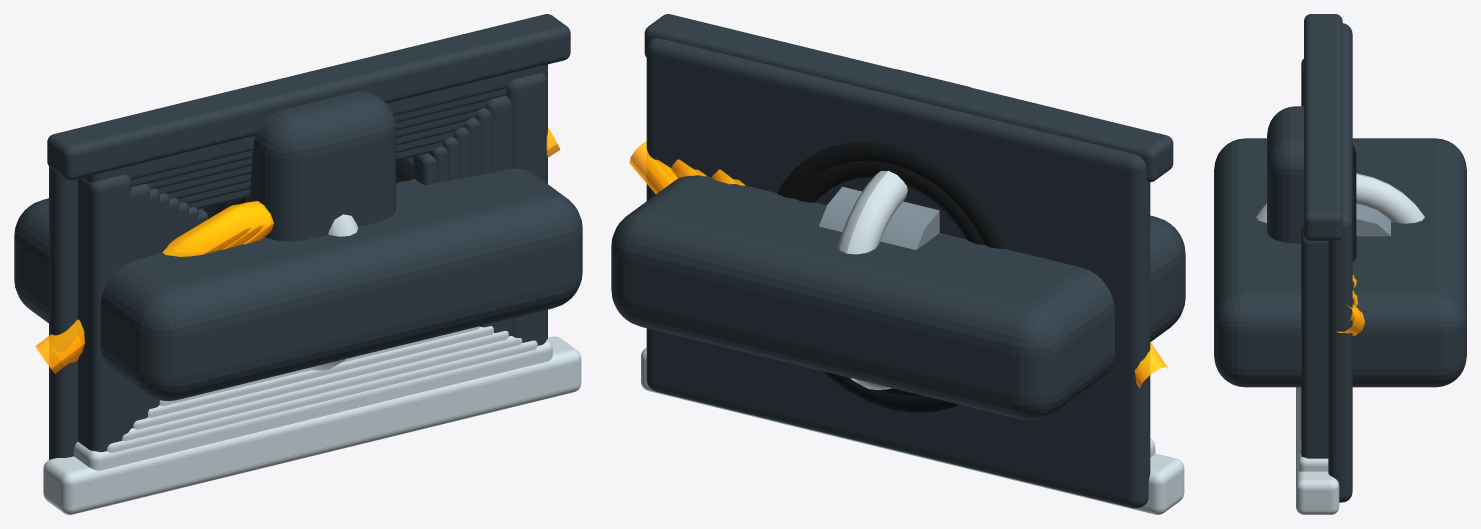
Rendered from body_02.glb.
The picture shows the model from 3 angles, left to right: view 1: azimuth 30°, elevation 25°; view 2: azimuth 150°, elevation 25°; view 3: azimuth 270°, elevation 25°; orthographic projection. The views are drawn at different scales.
Parts seen in each view (by area): view 1: asset_mesh__body_0107__reference_body, asset_mesh__body_0125__lower_flange, asset_mesh__body_0125__upper_flange, asset_mesh__body_0125__transmission_tunnel_relief, asset_mesh__body_0125__left_reinforcement, asset_mesh__body_0105__upper_flange, asset_mesh__body_0125__stamped_sheet, asset_mesh__body_0125__right_reinforcement, asset_mesh__body_0105__lower_flange, asset_mesh__body_0143__fluid_path, asset_mesh__body_0104__upper_flange, asset_mesh__body_0112__upper_flange (+18 smaller); view 2: asset_mesh__body_0125__stamped_sheet, asset_mesh__body_0107__reference_body, asset_mesh__body_0125__lower_flange, asset_mesh__body_0151__service_element, asset_mesh__body_0120__functional_ring, asset_mesh__body_0113__service_element, asset_mesh__body_0120__rotor, asset_mesh__body_0125__upper_flange, asset_mesh__body_0143__fluid_path; view 3: asset_mesh__body_0107__reference_body, asset_mesh__body_0125__lower_flange, asset_mesh__body_0125__stamped_sheet, asset_mesh__body_0125__right_reinforcement, asset_mesh__body_0125__transmission_tunnel_relief, asset_mesh__body_0120__functional_ring, asset_mesh__body_0125__upper_flange, asset_mesh__body_0120__rotor, asset_mesh__body_0105__upper_flange, asset_mesh__body_0151__service_element, asset_mesh__body_0143__fluid_path.
Part boxes in pixels (x1=…): asset_mesh__body_0107__reference_body: x1=14, y1=168, x2=582, y2=401; asset_mesh__body_0125__lower_flange: x1=47, y1=14, x2=570, y2=180; asset_mesh__body_0125__upper_flange: x1=43, y1=336, x2=581, y2=514; asset_mesh__body_0125__transmission_tunnel_relief: x1=246, y1=91, x2=395, y2=241; asset_mesh__body_0125__left_reinforcement: x1=78, y1=174, x2=131, y2=452; asset_mesh__body_0105__upper_flange: x1=74, y1=340, x2=552, y2=470; asset_mesh__body_0125__stamped_sheet: x1=49, y1=64, x2=547, y2=459; asset_mesh__body_0125__right_reinforcement: x1=506, y1=72, x2=546, y2=345; asset_mesh__body_0105__lower_flange: x1=84, y1=65, x2=542, y2=182; asset_mesh__body_0143__fluid_path: x1=35, y1=127, x2=560, y2=373; asset_mesh__body_0104__upper_flange: x1=107, y1=340, x2=537, y2=452; asset_mesh__body_0112__upper_flange: x1=122, y1=336, x2=522, y2=441; asset_mesh__body_0125__stamped_sheet: x1=646, y1=37, x2=1150, y2=508; asset_mesh__body_0107__reference_body: x1=611, y1=175, x2=1185, y2=420; asset_mesh__body_0125__lower_flange: x1=644, y1=14, x2=1173, y2=182; asset_mesh__body_0151__service_element: x1=777, y1=141, x2=1004, y2=412; asset_mesh__body_0120__functional_ring: x1=838, y1=170, x2=907, y2=389; asset_mesh__body_0113__service_element: x1=794, y1=160, x2=984, y2=395; asset_mesh__body_0120__rotor: x1=819, y1=186, x2=939, y2=249; asset_mesh__body_0125__upper_flange: x1=641, y1=348, x2=1184, y2=514; asset_mesh__body_0143__fluid_path: x1=629, y1=141, x2=1168, y2=388; asset_mesh__body_0107__reference_body: x1=1214, y1=138, x2=1466, y2=387; asset_mesh__body_0125__lower_flange: x1=1304, y1=14, x2=1342, y2=240; asset_mesh__body_0125__stamped_sheet: x1=1328, y1=23, x2=1352, y2=502; asset_mesh__body_0125__right_reinforcement: x1=1301, y1=225, x2=1328, y2=458; asset_mesh__body_0125__transmission_tunnel_relief: x1=1267, y1=106, x2=1303, y2=243; asset_mesh__body_0120__functional_ring: x1=1256, y1=173, x2=1424, y2=223; asset_mesh__body_0125__upper_flange: x1=1296, y1=387, x2=1339, y2=514; asset_mesh__body_0120__rotor: x1=1356, y1=204, x2=1390, y2=236; asset_mesh__body_0105__upper_flange: x1=1298, y1=387, x2=1328, y2=471; asset_mesh__body_0151__service_element: x1=1352, y1=145, x2=1356, y2=261; asset_mesh__body_0143__fluid_path: x1=1336, y1=305, x2=1364, y2=335.
Size of the model in its own units: 1.73 by 1.15 by 0.882.
